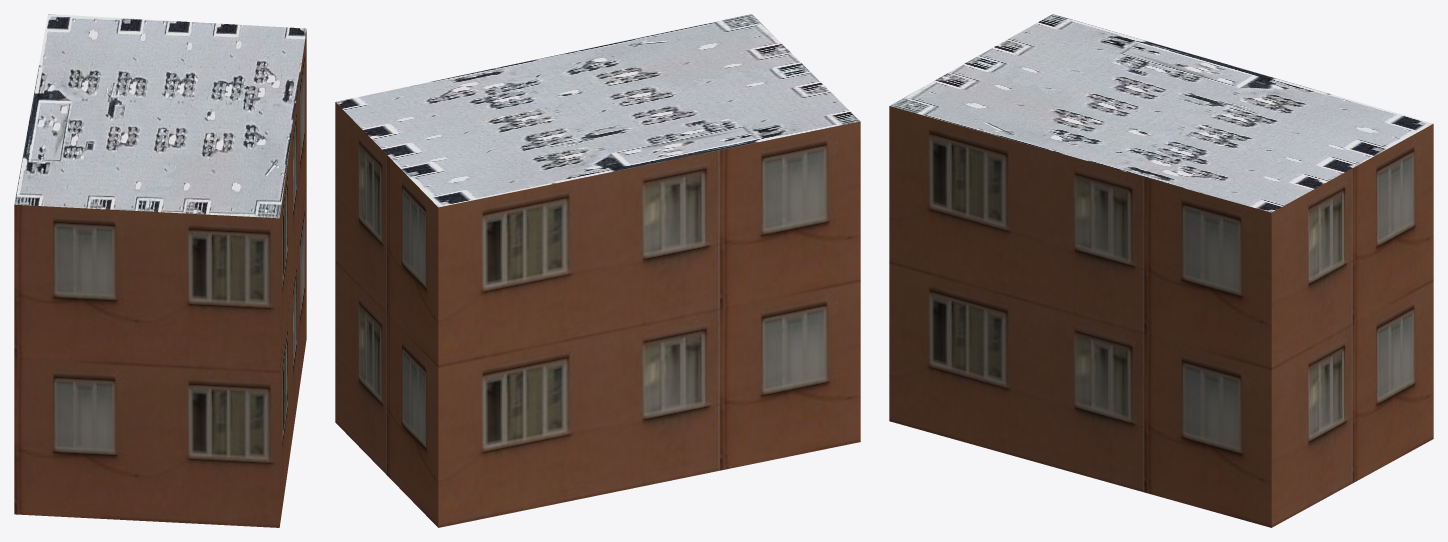
The model's file is ResTex__157.fbx.
3 renders of one model, left to right at view 1: azimuth 30°, elevation 25°; view 2: azimuth 150°, elevation 25°; view 3: azimuth 270°, elevation 25°, orthographic. The views are drawn at different scales.
Visible parts, largest first — view 1: CityEngineMaterial_20_m, CityEngineMaterial_8_m; view 2: CityEngineMaterial_20_m, CityEngineMaterial_8_m; view 3: CityEngineMaterial_20_m, CityEngineMaterial_8_m.
Part boxes in pixels (x1,y1,x2,y2): CityEngineMaterial_20_m: (14, 30, 306, 527); CityEngineMaterial_8_m: (14, 14, 306, 218); CityEngineMaterial_20_m: (335, 102, 860, 527); CityEngineMaterial_8_m: (336, 14, 860, 207); CityEngineMaterial_20_m: (889, 106, 1433, 527); CityEngineMaterial_8_m: (890, 14, 1432, 212).
Size of the model in its own units: 8.11 by 6 by 9.39.
Materials: 2 (2 with a texture image).
